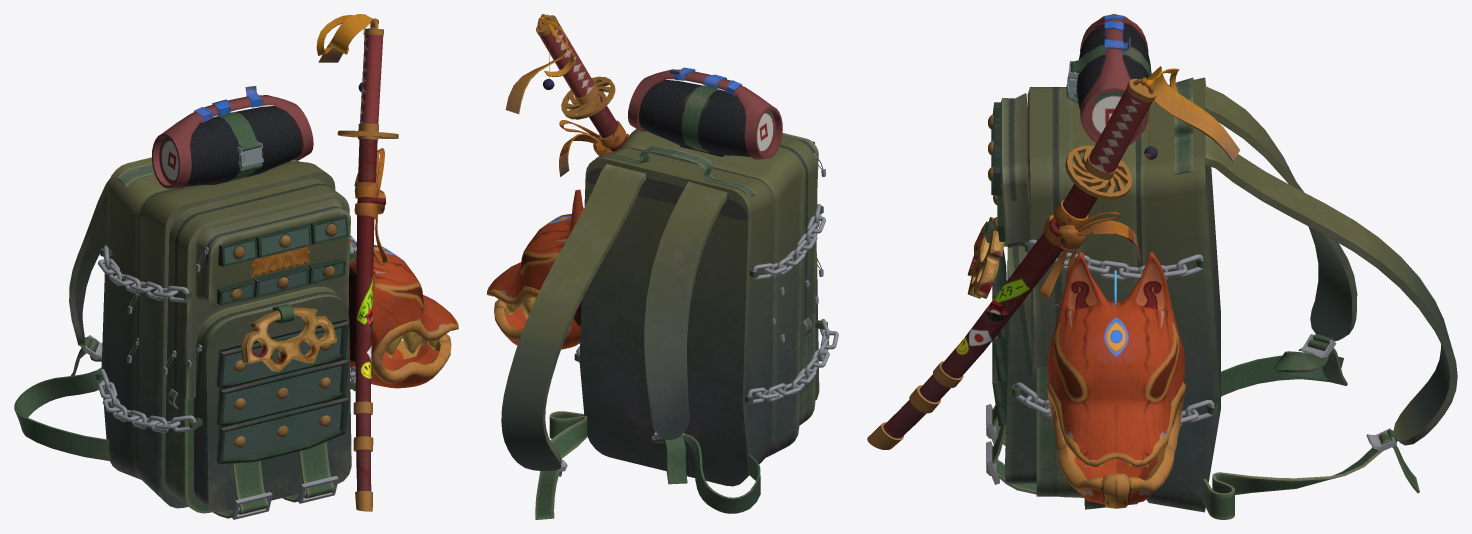
Rendered from Dragon.fbx.
3 renders of one model, left to right at view 1: azimuth 30°, elevation 25°; view 2: azimuth 150°, elevation 25°; view 3: azimuth 270°, elevation 25°, orthographic. The views are drawn at different scales.
Parts seen in each view (by area): view 1: backpack_low; view 2: backpack_low; view 3: backpack_low.
Part boxes in pixels (x1,y1,x2,y2): backpack_low: (14,14,458,519); backpack_low: (487,14,838,519); backpack_low: (867,14,1457,519).
Size of the model in its own units: 126 by 146 by 161.
